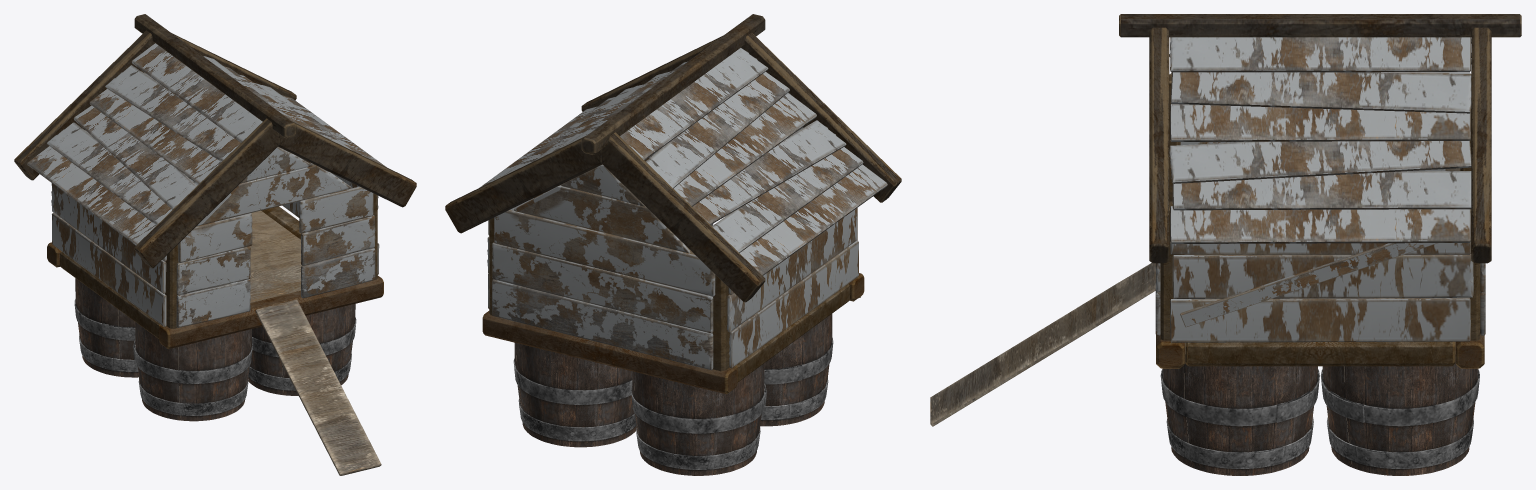
Rendered from chicken_coop_sm.glb.
3 renders of one model, left to right at view 1: azimuth 30°, elevation 25°; view 2: azimuth 150°, elevation 25°; view 3: azimuth 270°, elevation 25°, orthographic. The views are drawn at different scales.
Parts seen in each view (by area): view 1: Coop; view 2: Coop; view 3: Coop.
Part boxes in pixels (x1=…): Coop: x1=14, y1=14, x2=416, y2=475; Coop: x1=445, y1=14, x2=901, y2=475; Coop: x1=930, y1=14, x2=1521, y2=475.
Size of the model in its own units: 242 by 246 by 332.
1 material, 1 textured.
